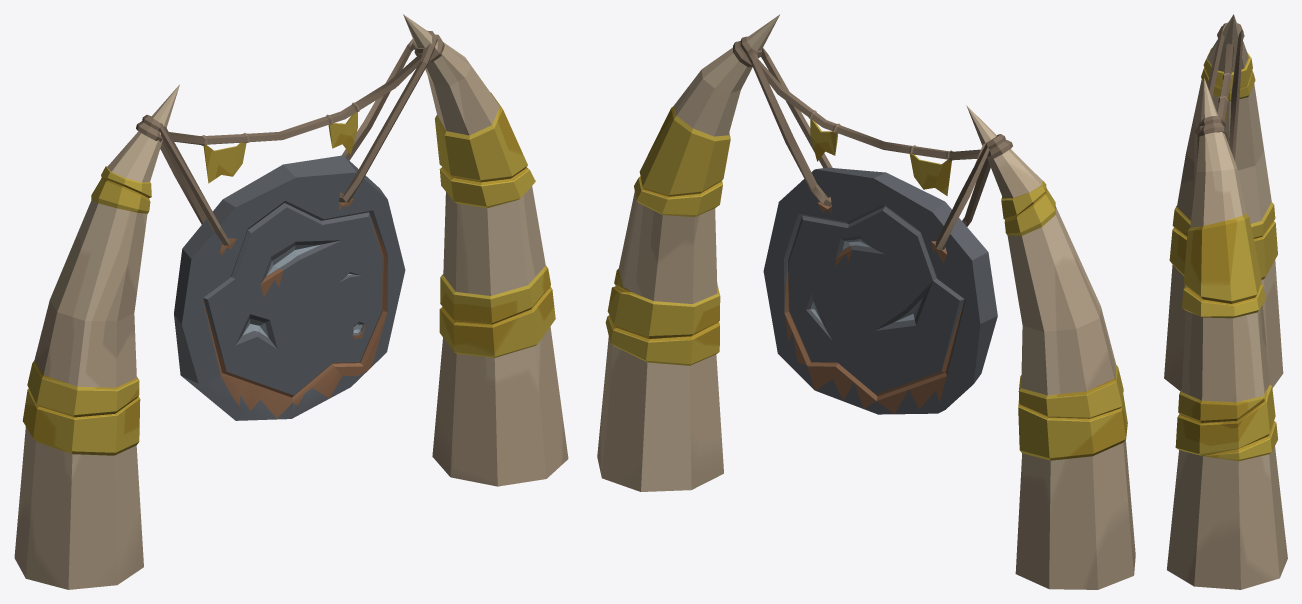
Rendered from bog_gong.gltf.
The picture shows the model from 3 angles, left to right: view 1: azimuth 30°, elevation 25°; view 2: azimuth 150°, elevation 25°; view 3: azimuth 270°, elevation 25°; orthographic projection. The views are drawn at different scales.
Visible parts, largest first — view 1: bog_gong; view 2: bog_gong; view 3: bog_gong.
Boxes of the visible parts, x1,y1,x2,y2 form: bog_gong: (14,14,568,589); bog_gong: (597,14,1135,589); bog_gong: (1164,14,1287,589).
Bounding box in the file's own units: 3.28 × 2.8 × 0.7182.
1 material, 1 textured.
